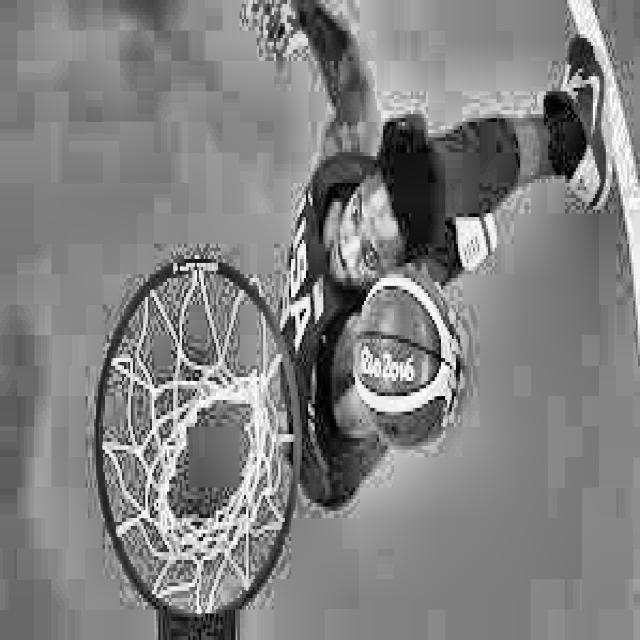Basketball: (355, 267, 458, 450)
